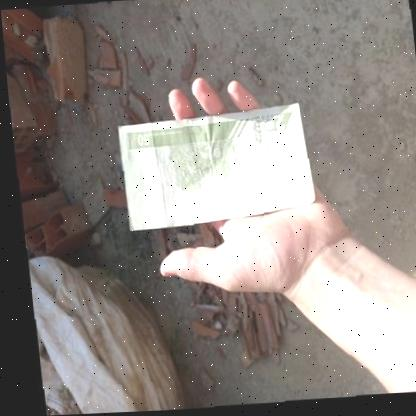fifty-back-vef: (113, 104, 313, 231)
